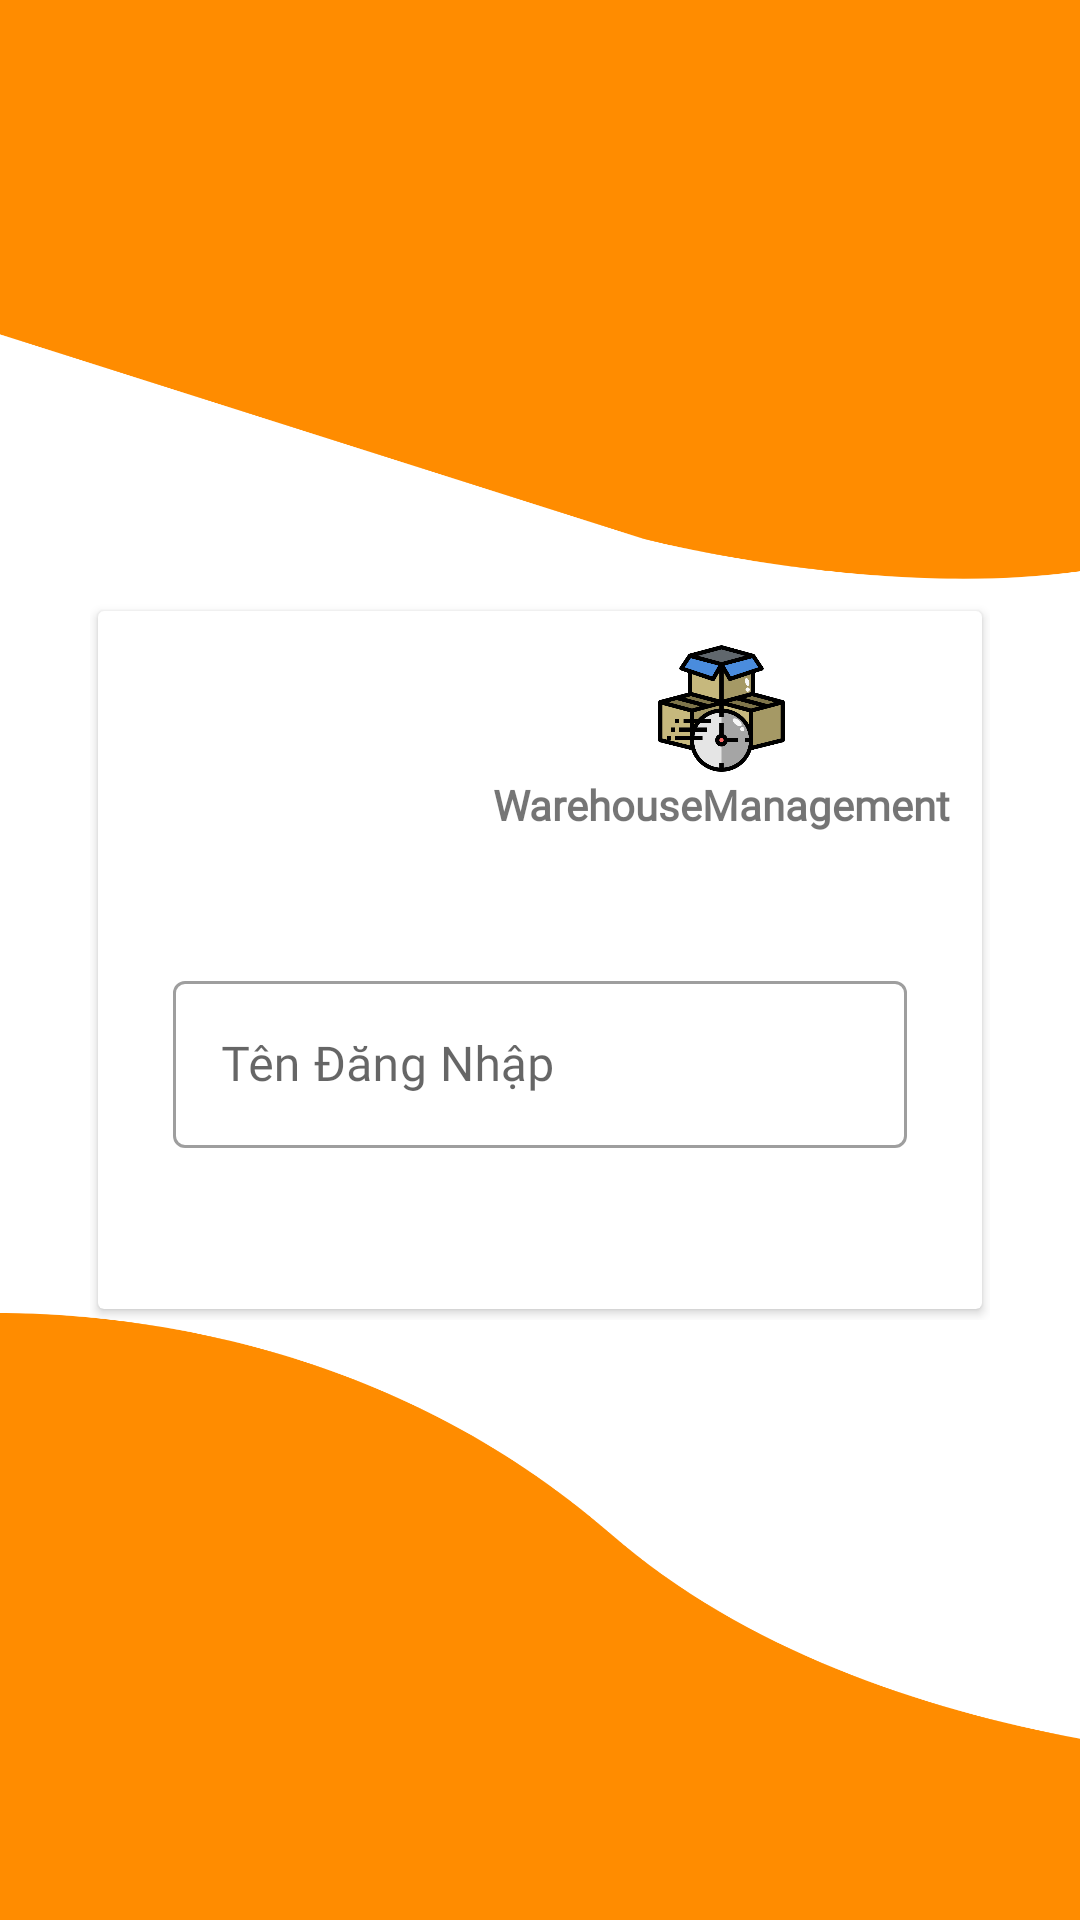

Screen size 1080 × 1920. Icon name, then its box in pixels as (x1, y1, x2, y2):
production: (658, 645, 785, 772)
